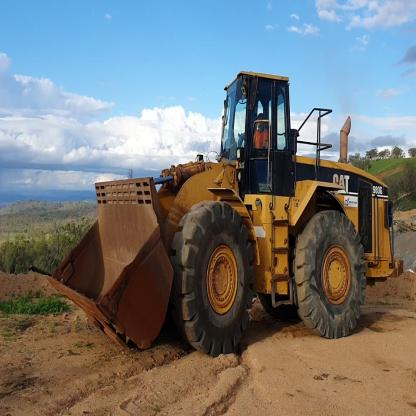bull_dozer/loader/grader: (38, 53, 410, 366)
